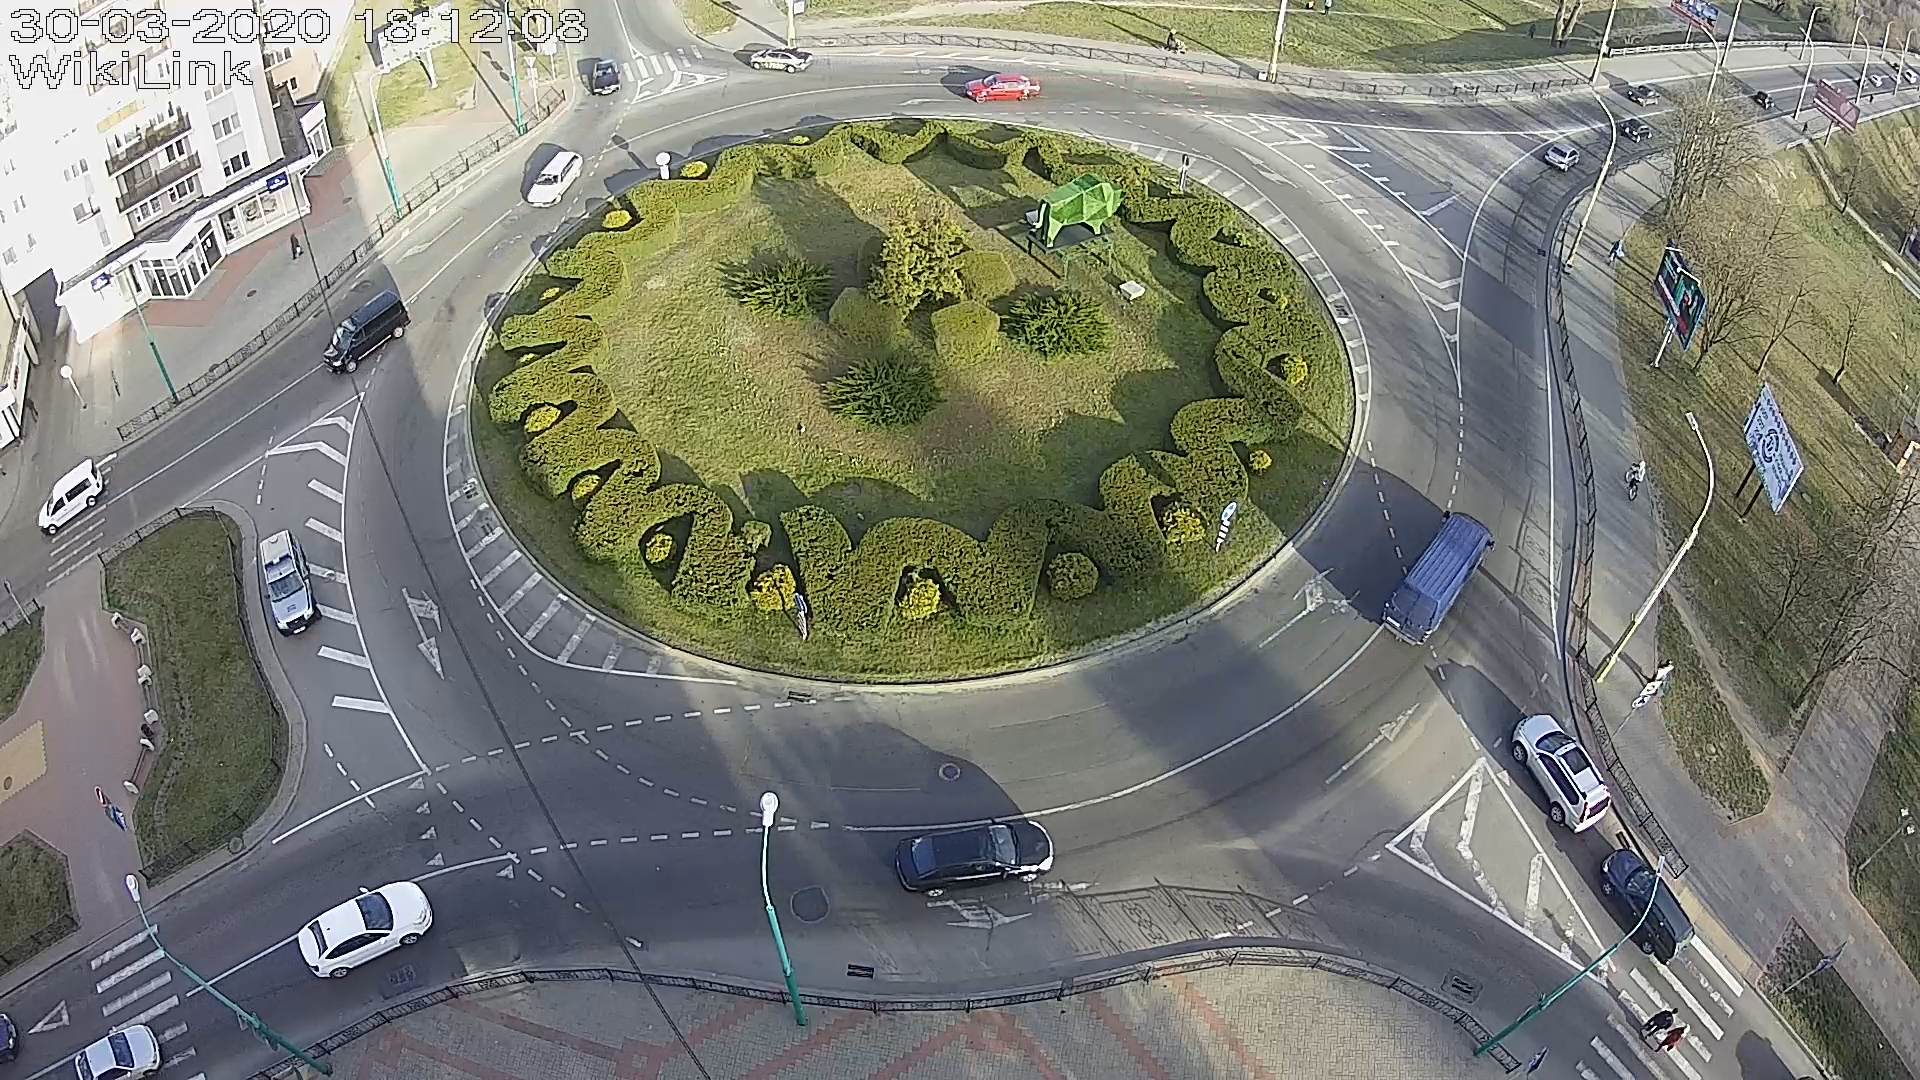car: (1379, 512, 1495, 646), (297, 881, 433, 978), (894, 818, 1056, 898), (1513, 713, 1611, 833), (1600, 848, 1696, 965), (324, 289, 411, 375), (258, 527, 322, 637), (36, 458, 105, 535), (73, 1023, 160, 1080), (526, 152, 584, 208), (964, 73, 1040, 104), (748, 46, 814, 75), (592, 59, 621, 98), (1544, 142, 1580, 171), (1619, 117, 1654, 142), (1627, 84, 1662, 108)
